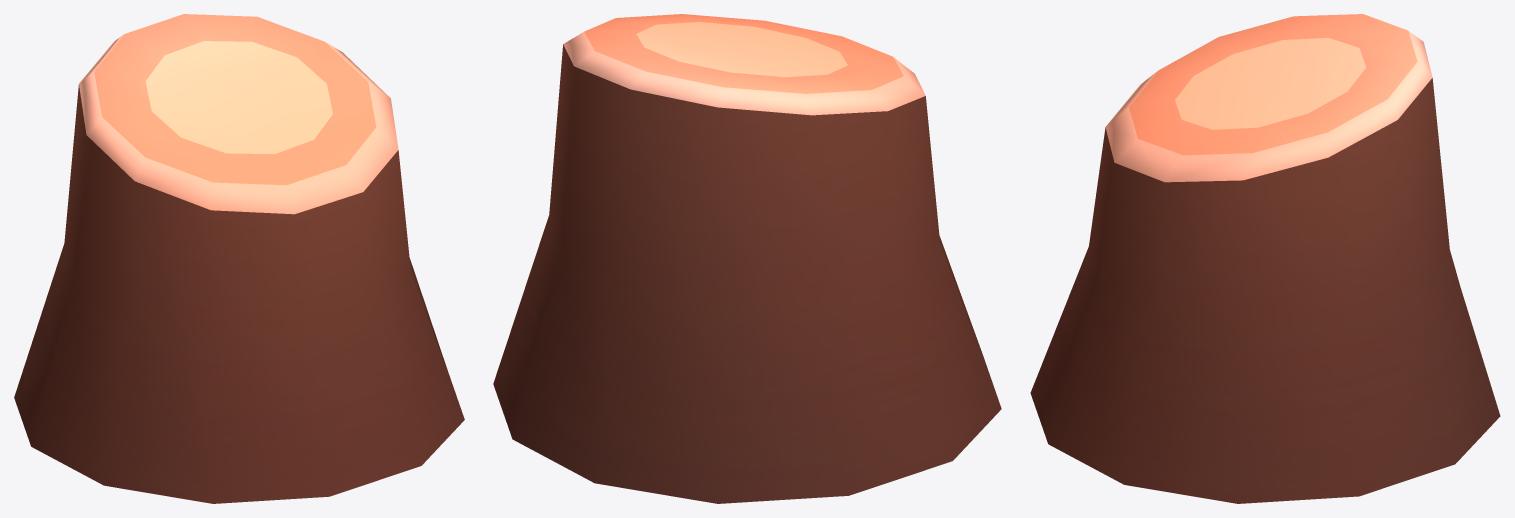
Rendered from stump_002.glb.
The picture shows the model from 3 angles, left to right: view 1: azimuth 30°, elevation 25°; view 2: azimuth 150°, elevation 25°; view 3: azimuth 270°, elevation 25°; orthographic projection. The views are drawn at different scales.
Visible parts, largest first — view 1: stump_002; view 2: stump_002; view 3: stump_002.
Boxes of the visible parts, x1,y1,x2,y2 form: stump_002: (14, 14, 464, 503); stump_002: (493, 14, 1001, 503); stump_002: (1030, 14, 1500, 503).
Size of the model in its own units: 1.13 by 0.933 by 1.13.
Materials: 1 (1 with a texture image).
